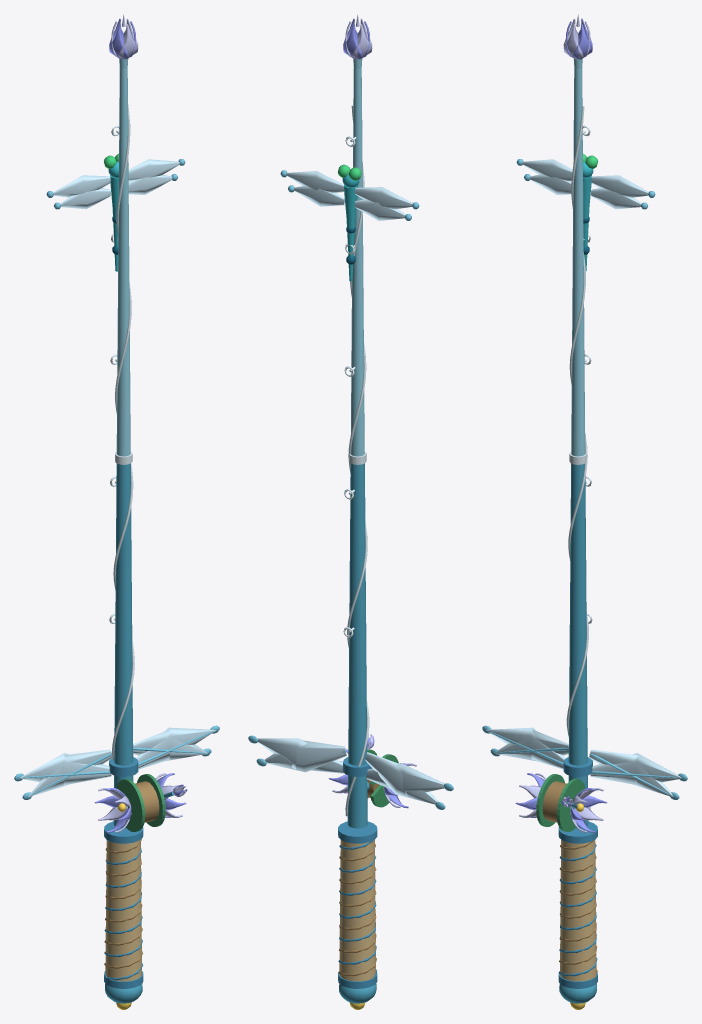
File: DragonflyRod.glb
The picture shows the model from 3 angles, left to right: view 1: azimuth 30°, elevation 25°; view 2: azimuth 150°, elevation 25°; view 3: azimuth 330°, elevation 25°; orthographic projection.
Parts seen in each view (by area): view 1: DragonflyRod__Wing, DragonflyRod__Stem, DragonflyRod__StemLight, DragonflyRod__Grip, DragonflyRod__Cord, DragonflyRod__Vein, DragonflyRod__Leaf, DragonflyRod__Lotus, DragonflyRod__LotusLight, DragonflyRod__GripDark, DragonflyRod__WingEdge, DragonflyRod__Dragon; view 2: DragonflyRod__Wing, DragonflyRod__Stem, DragonflyRod__Grip, DragonflyRod__StemLight, DragonflyRod__Cord, DragonflyRod__Vein, DragonflyRod__Lotus, DragonflyRod__Dragon, DragonflyRod__GripDark, DragonflyRod__LotusLight; view 3: DragonflyRod__Wing, DragonflyRod__Stem, DragonflyRod__StemLight, DragonflyRod__Grip, DragonflyRod__Cord, DragonflyRod__Vein, DragonflyRod__LotusLight, DragonflyRod__GripDark, DragonflyRod__Lotus, DragonflyRod__Leaf, DragonflyRod__WingEdge, DragonflyRod__Dragon.
Part boxes in pixels (<box>): DragonflyRod__Wing: <box>20,159,215,796</box>; DragonflyRod__Stem: <box>105,463,174,1003</box>; DragonflyRod__StemLight: <box>116,59,130,456</box>; DragonflyRod__Grip: <box>105,840,141,981</box>; DragonflyRod__Cord: <box>104,757,143,988</box>; DragonflyRod__Vein: <box>109,104,134,760</box>; DragonflyRod__Leaf: <box>116,774,165,831</box>; DragonflyRod__Lotus: <box>94,18,187,832</box>; DragonflyRod__LotusLight: <box>98,14,186,832</box>; DragonflyRod__GripDark: <box>104,781,159,968</box>; DragonflyRod__WingEdge: <box>14,159,219,799</box>; DragonflyRod__Dragon: <box>108,161,118,271</box>; DragonflyRod__Wing: <box>257,171,444,804</box>; DragonflyRod__Stem: <box>339,463,376,1003</box>; DragonflyRod__Grip: <box>339,840,375,981</box>; DragonflyRod__StemLight: <box>350,59,364,456</box>; DragonflyRod__Cord: <box>338,757,377,988</box>; DragonflyRod__Vein: <box>343,104,369,816</box>; DragonflyRod__Lotus: <box>328,18,408,808</box>; DragonflyRod__Dragon: <box>342,174,359,281</box>; DragonflyRod__GripDark: <box>338,779,379,976</box>; DragonflyRod__LotusLight: <box>332,14,416,807</box>; DragonflyRod__Wing: <box>486,159,681,797</box>; DragonflyRod__Stem: <box>559,463,596,1003</box>; DragonflyRod__StemLight: <box>571,59,585,456</box>; DragonflyRod__Grip: <box>560,839,596,981</box>; DragonflyRod__Cord: <box>558,757,597,988</box>; DragonflyRod__Vein: <box>566,106,592,809</box>; DragonflyRod__LotusLight: <box>519,14,603,832</box>; DragonflyRod__GripDark: <box>542,781,597,977</box>; DragonflyRod__Lotus: <box>515,18,607,832</box>; DragonflyRod__Leaf: <box>536,774,585,831</box>; DragonflyRod__WingEdge: <box>482,159,687,799</box>; DragonflyRod__Dragon: <box>583,161,593,270</box>.
Size of the model in its own units: 1.4 by 6.51 by 0.5796.
